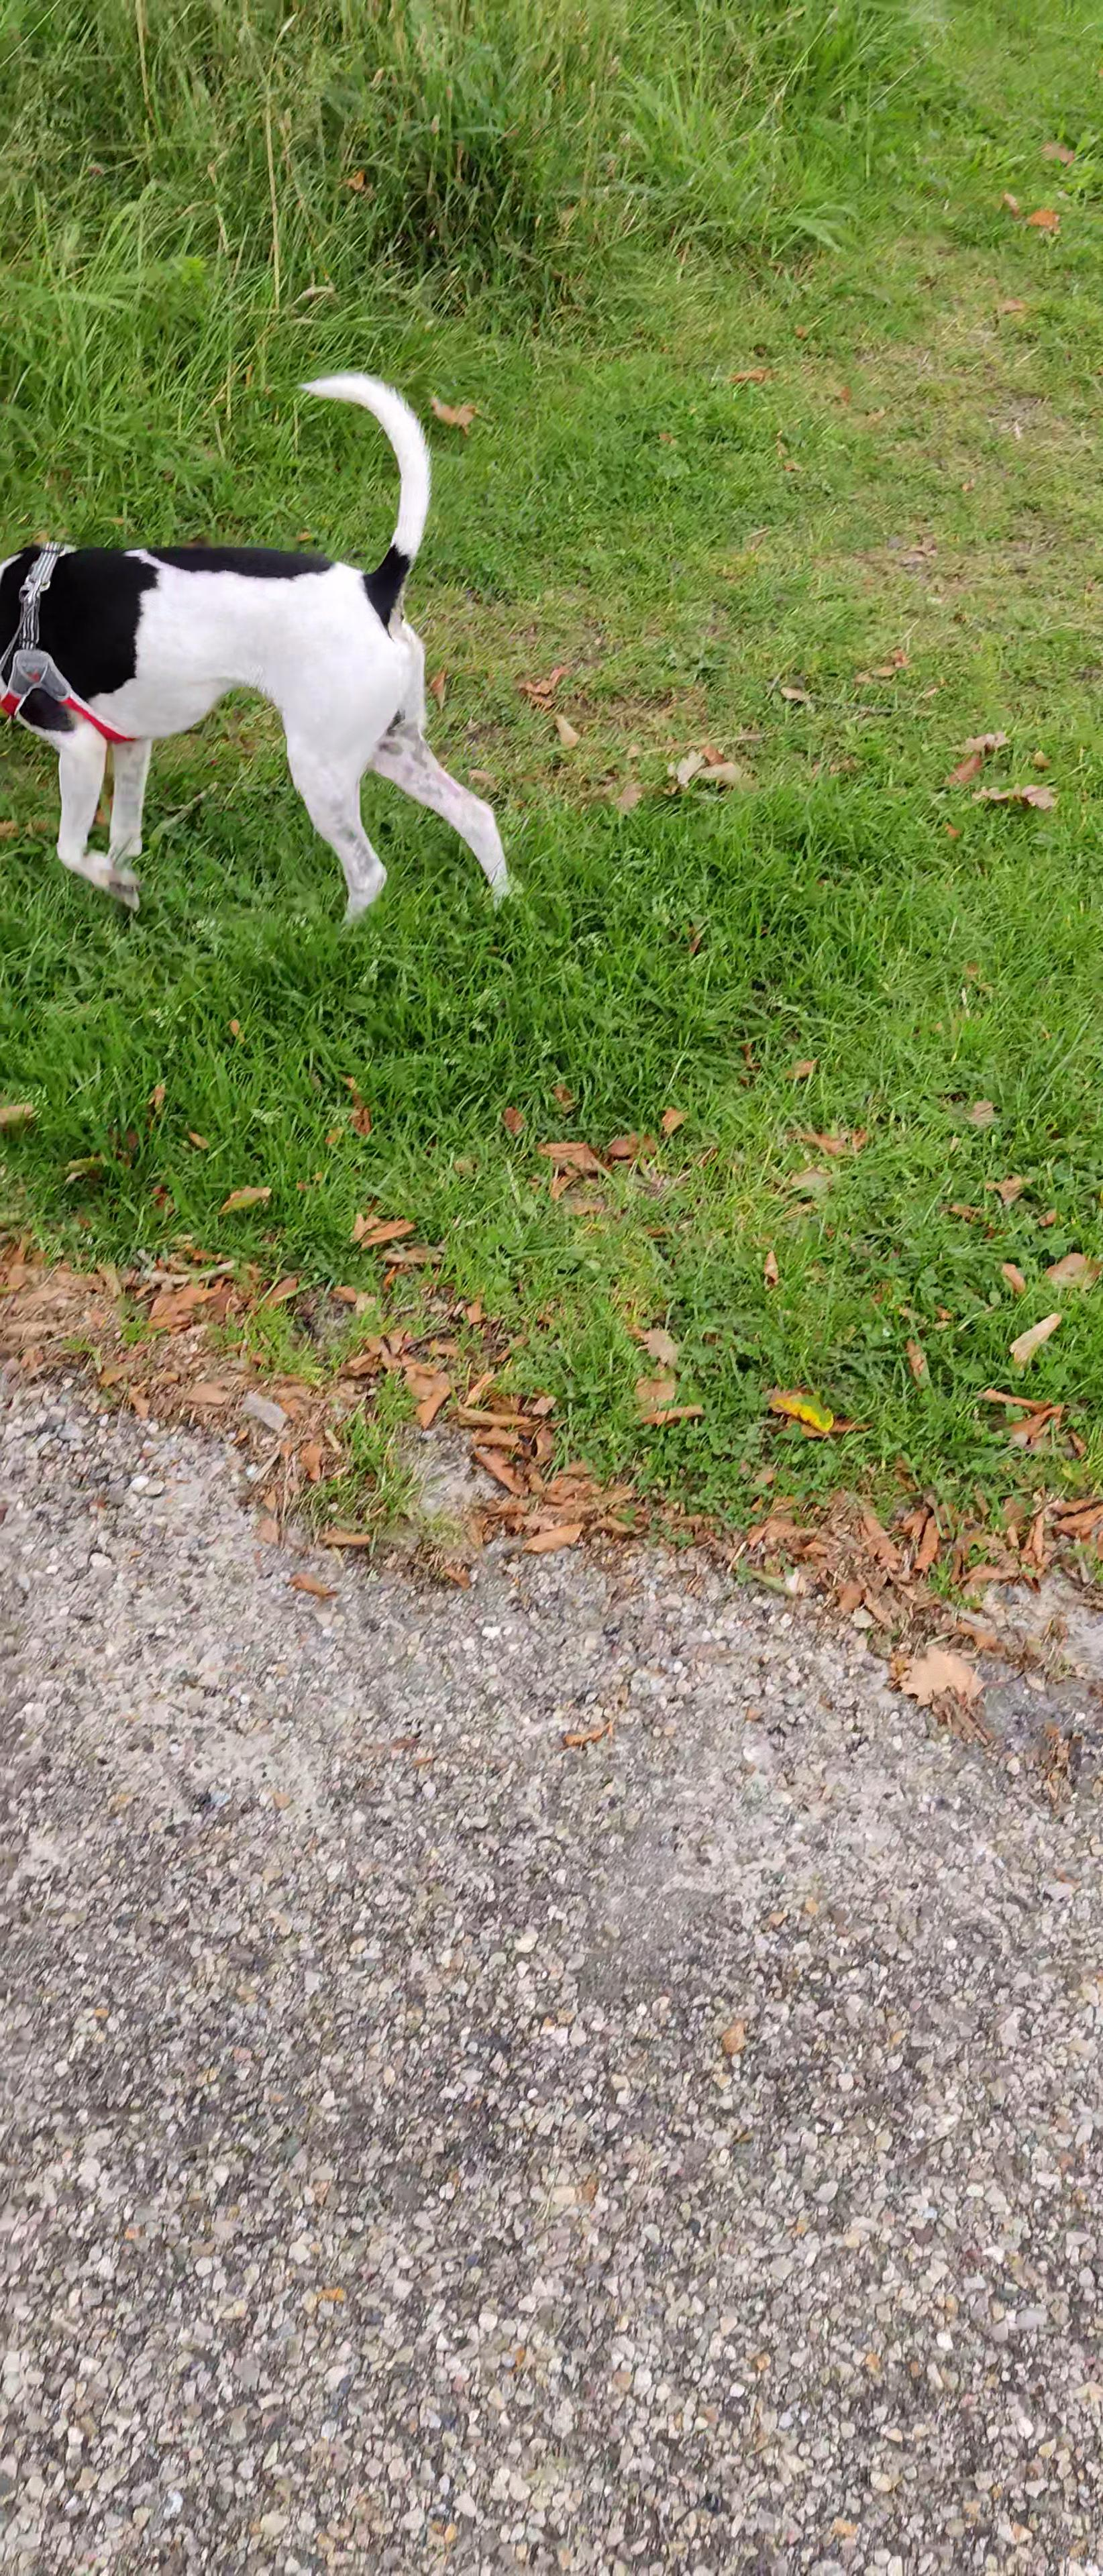Dog: (0, 350, 538, 959)
